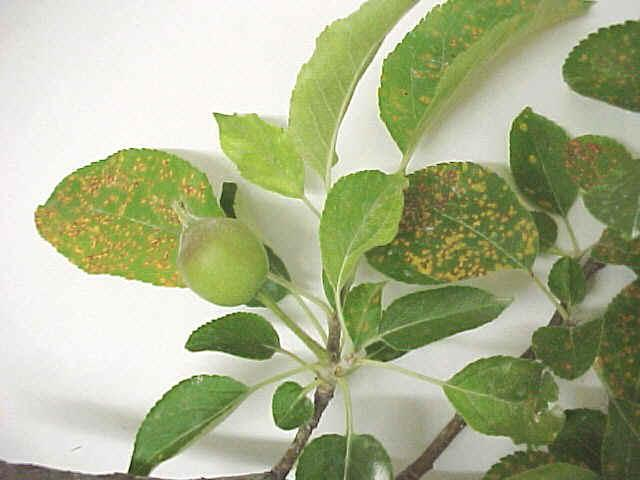Apple rust leaf: (339, 2, 602, 175), (24, 138, 238, 296), (387, 153, 552, 285), (498, 100, 632, 244), (520, 304, 602, 391)
